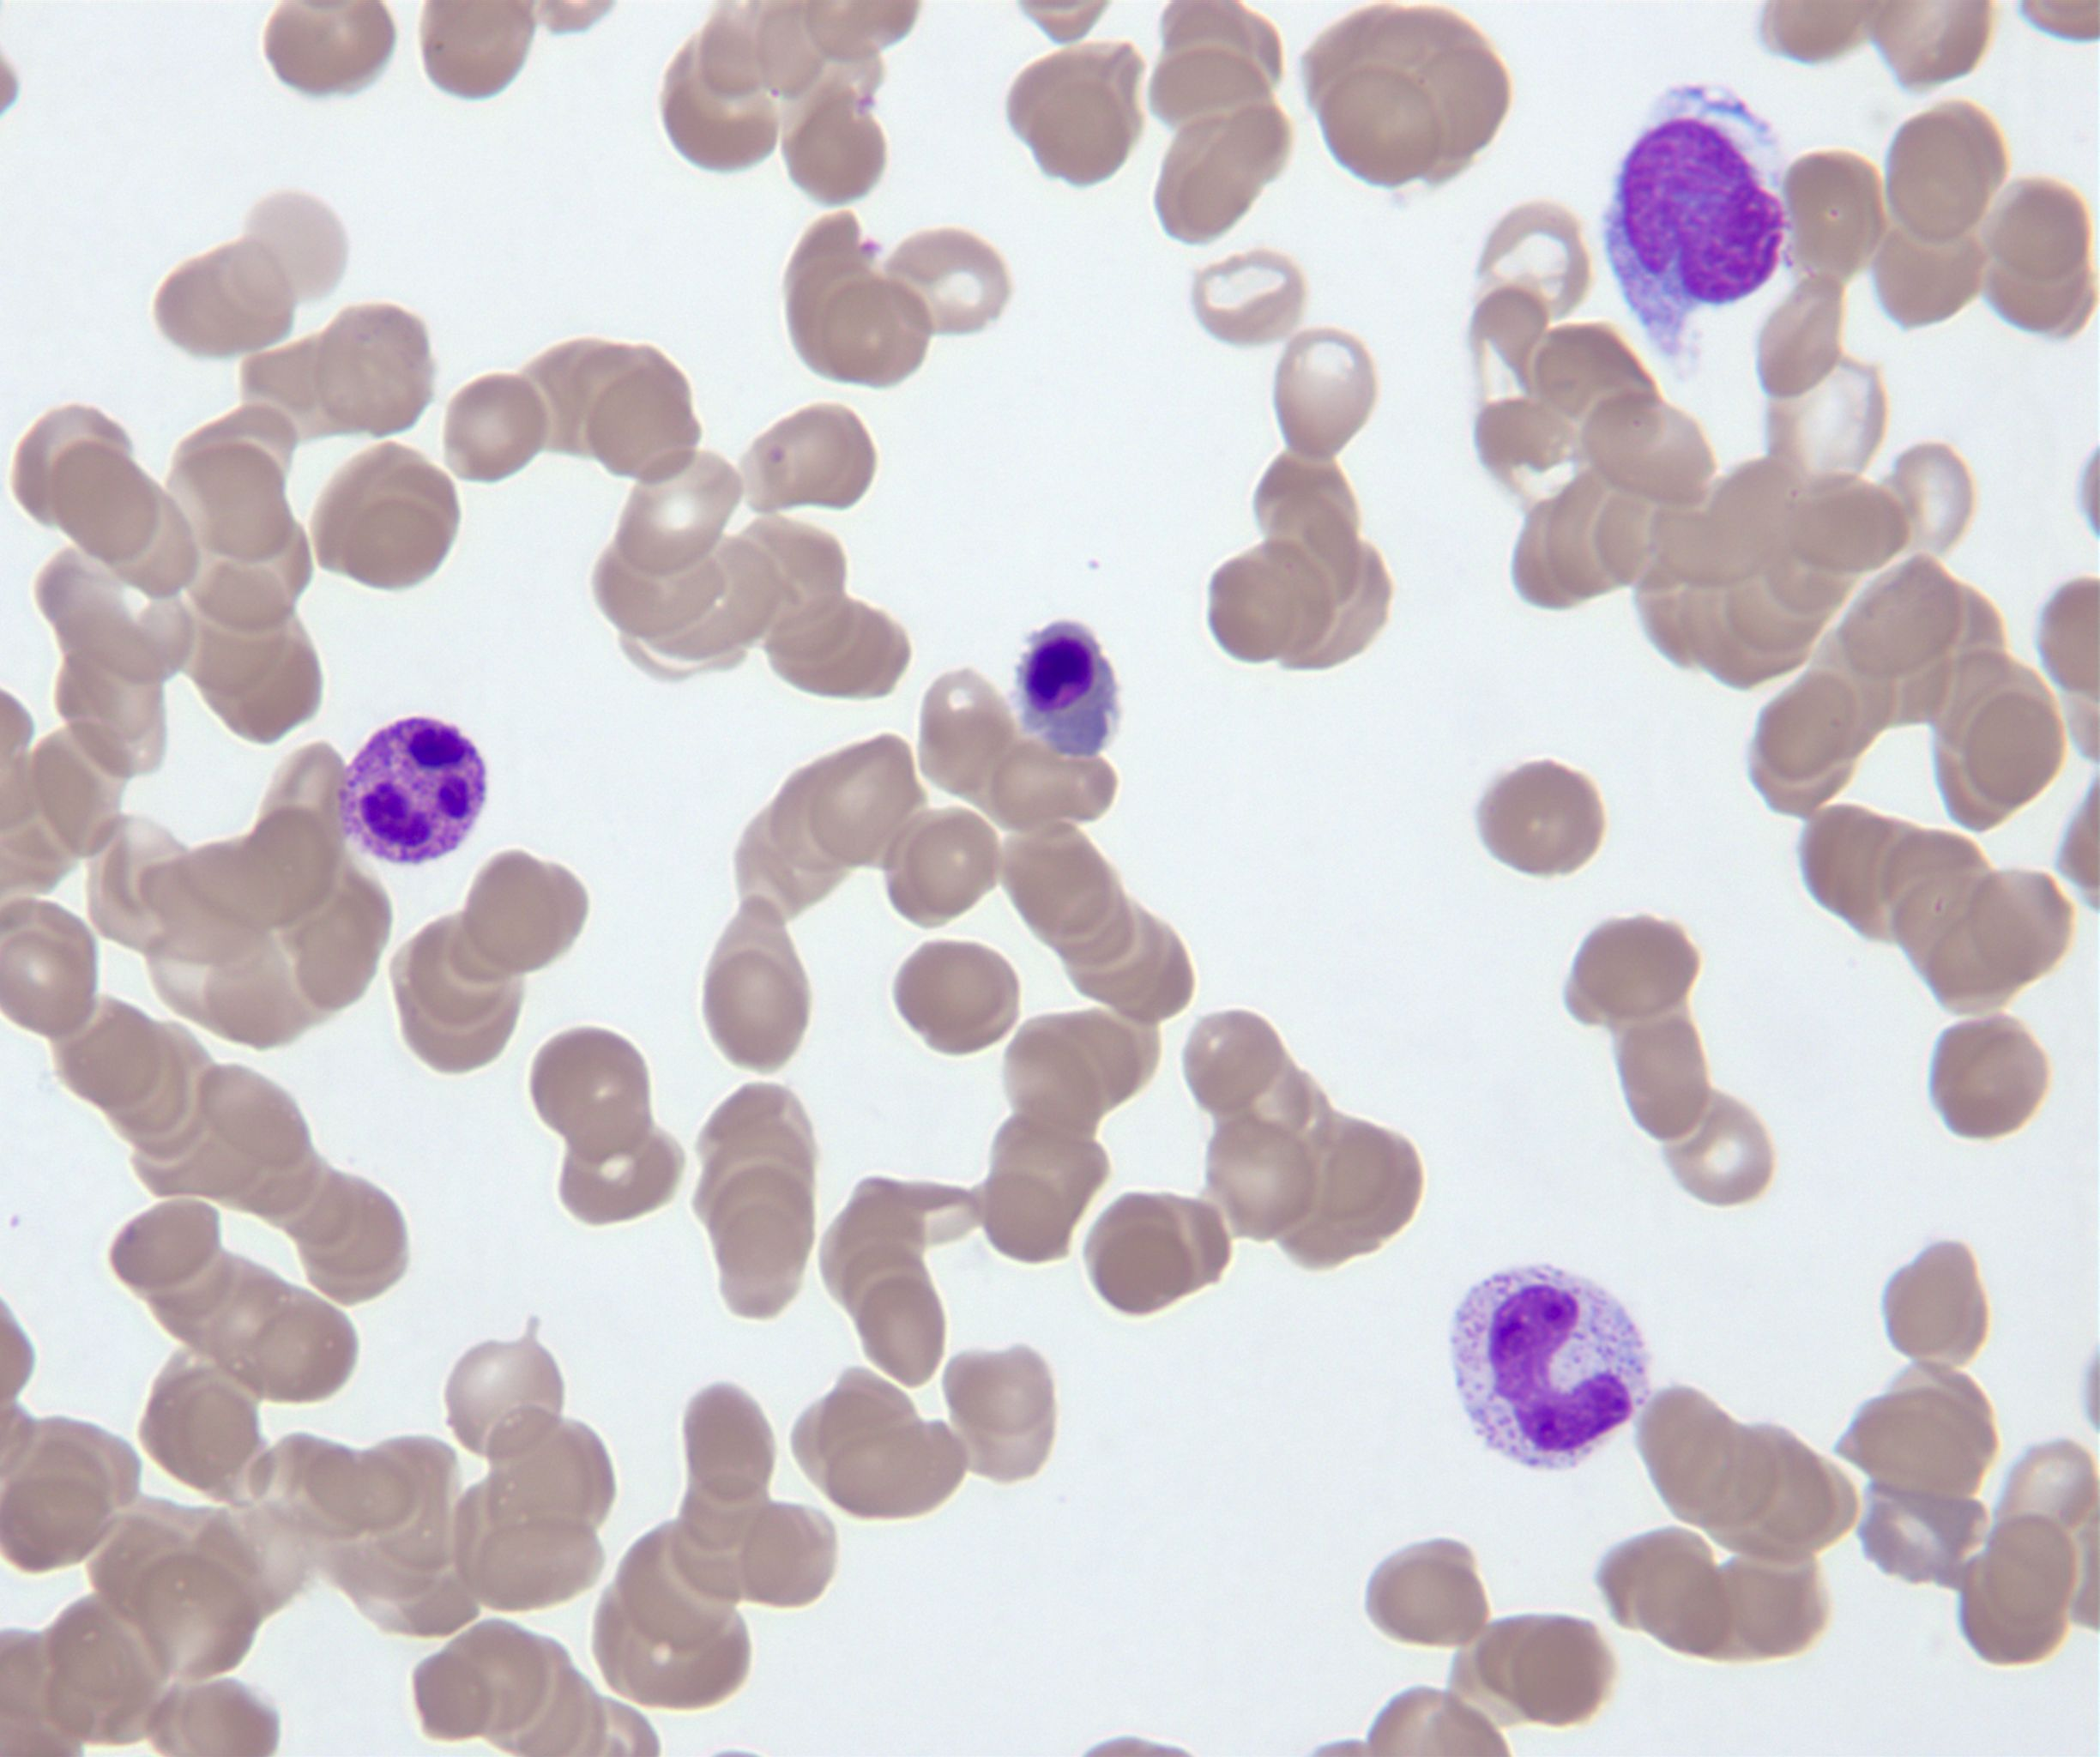24: (1017, 619, 1118, 757)
5: (1451, 1268, 1648, 1471)
6: (338, 719, 483, 864)
x: (1606, 85, 1788, 361)
